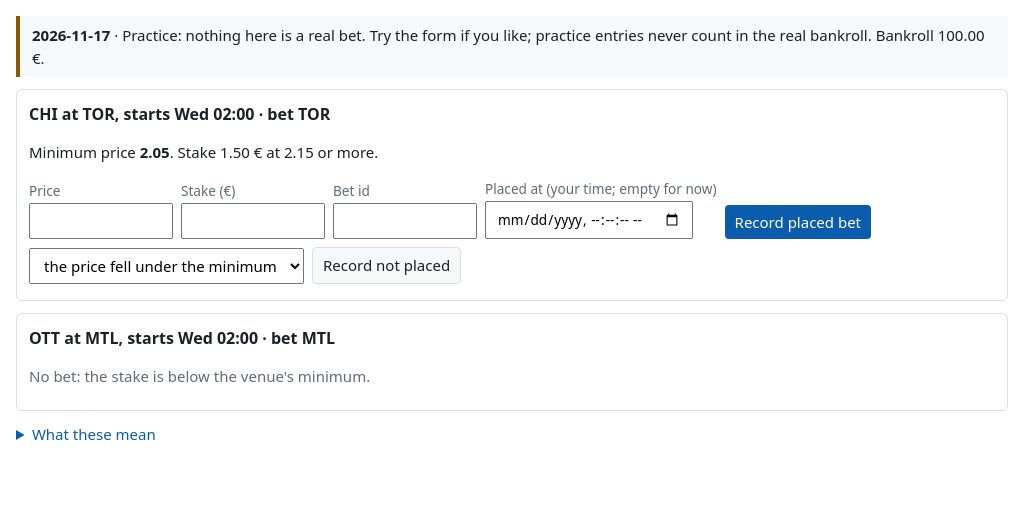
Test case: an alerted bet shows its minimum price and the stake at the price typed
The width and height of the screenshot is (1024, 532).
Expected: the text "Practice: nothing here is a real bet" is shown, left=122, top=25, right=872, bottom=45
Expected: the heading "CHI at TOR, starts Wed 02:00 · bet TOR" is shown, left=29, top=103, right=330, bottom=125
Type "2.10" into the number field labelled "Price".
click(101, 221); type("2.10")  # box left=29, top=203, right=173, bottom=239
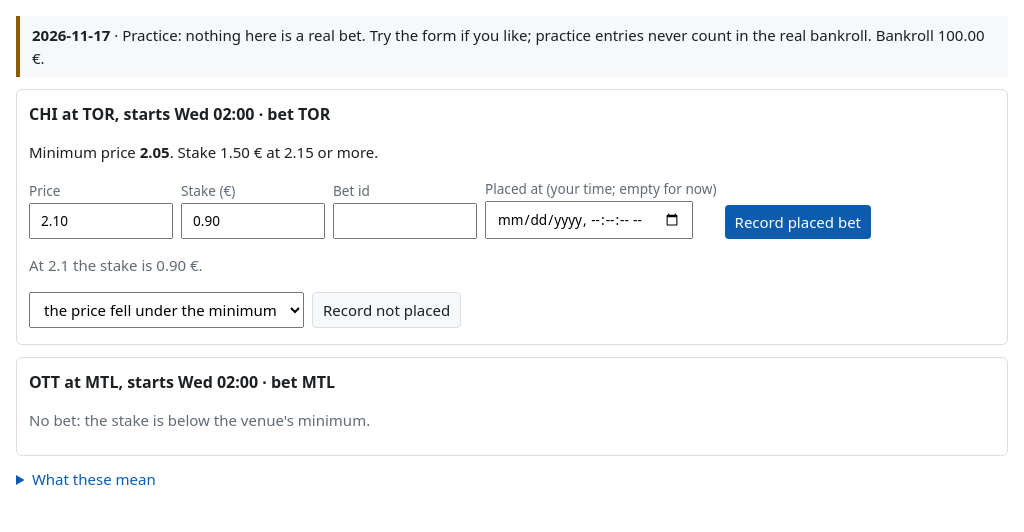
Expected: the message reads "At 2.1 the stake is 0.90 €.", left=29, top=255, right=203, bottom=275
Expected: the number field labelled "Stake (€)" holds "0.90", left=181, top=203, right=325, bottom=239
Replace the text in the number field labelled "Price" with "2.00" at (101, 221), box left=29, top=203, right=173, bottom=239
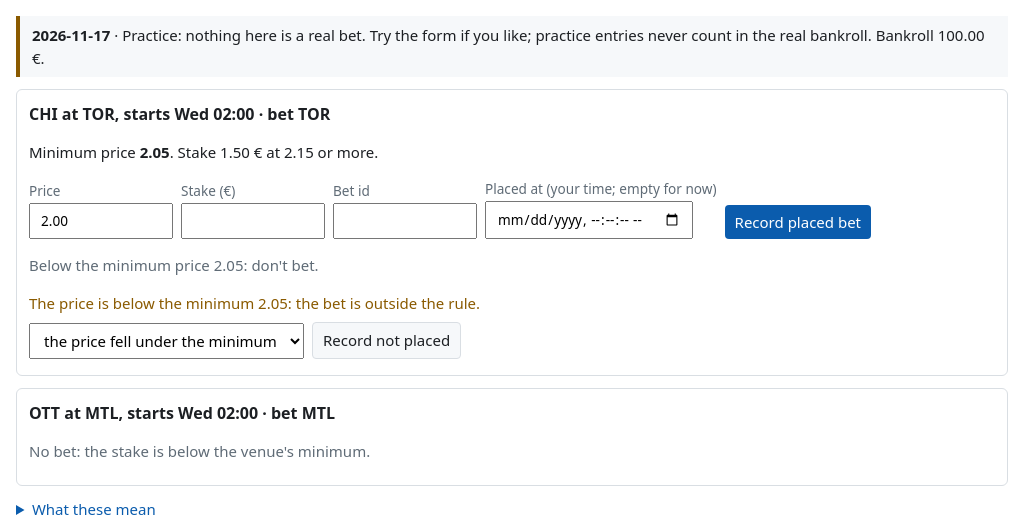
Expected: the message reads "Below the minimum price 2.05: don't bet.", left=29, top=255, right=319, bottom=275
